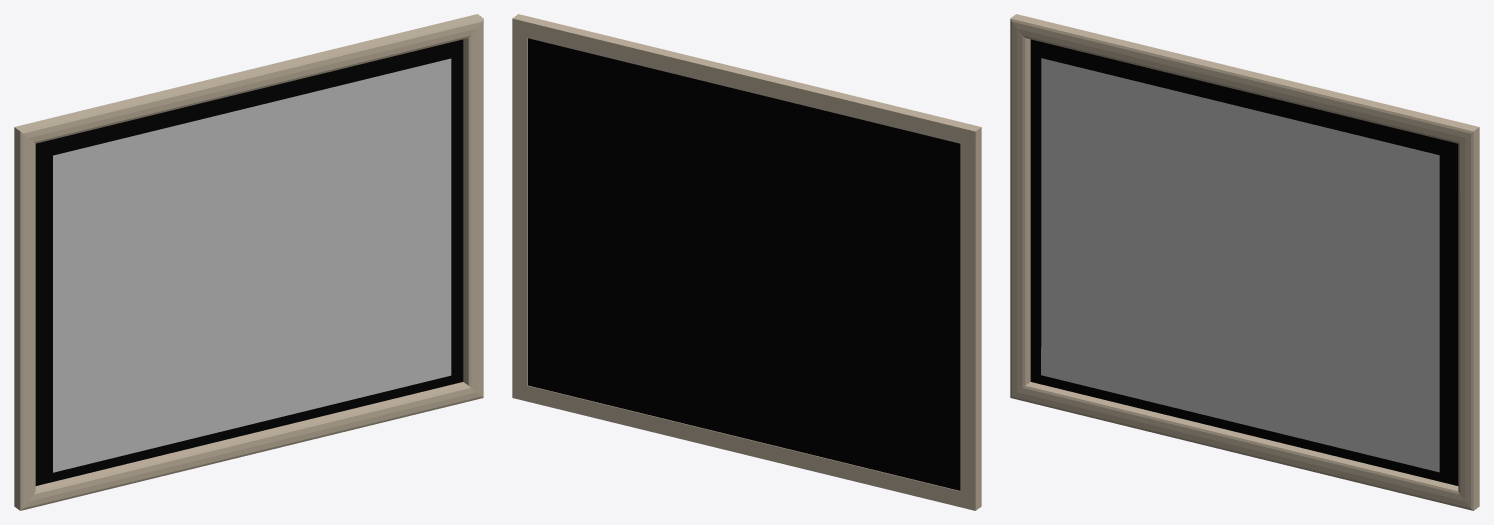
Rendered from HorseShoeBendFrame.obj.
3 views of the same model, side by side, from view 1: azimuth 30°, elevation 25°; view 2: azimuth 150°, elevation 25°; view 3: azimuth 330°, elevation 25° (orthographic).
Visible parts, largest first — view 1: Photo_Cube, MetalFrame_Cylinder, Frame_Black; view 2: Frame_Black, MetalFrame_Cylinder; view 3: Photo_Cube, MetalFrame_Cylinder, Frame_Black.
Part boxes in pixels (box(x1,y1,x2,y2)): Photo_Cube: box(53, 58, 451, 472); MetalFrame_Cylinder: box(14, 14, 483, 510); Frame_Black: box(35, 39, 463, 485); Frame_Black: box(528, 38, 960, 490); MetalFrame_Cylinder: box(512, 14, 981, 510); Photo_Cube: box(1041, 58, 1439, 472); MetalFrame_Cylinder: box(1010, 14, 1479, 510); Frame_Black: box(1030, 39, 1458, 485).
Size of the model in its own units: 61.16 by 47.86 by 1.6.
